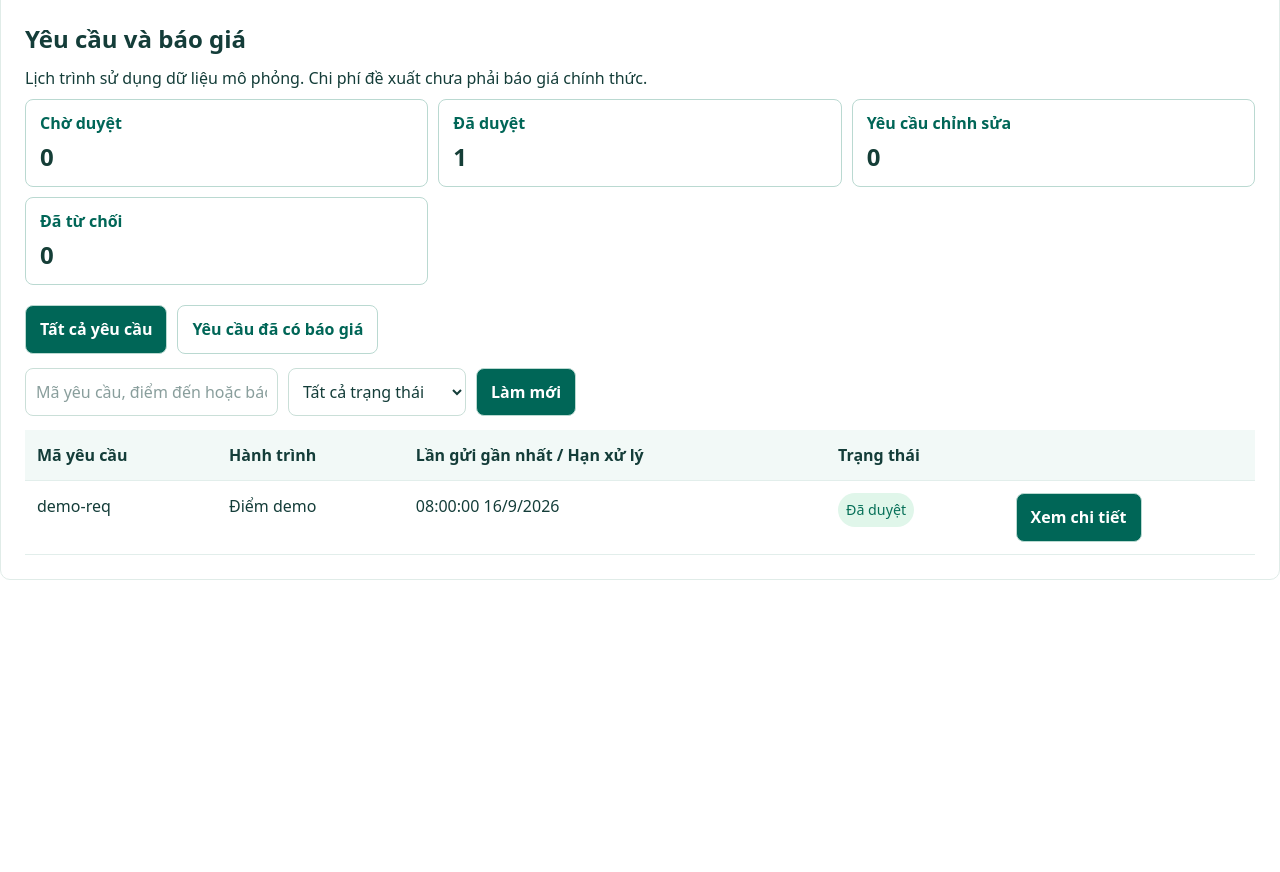
Test: creates a final quote only for an approved request and reloads persisted data
Click the button "Xem chi tiết" at {"x": 1078, "y": 518}, box top-left (1016, 493), bottom-right (1142, 542)
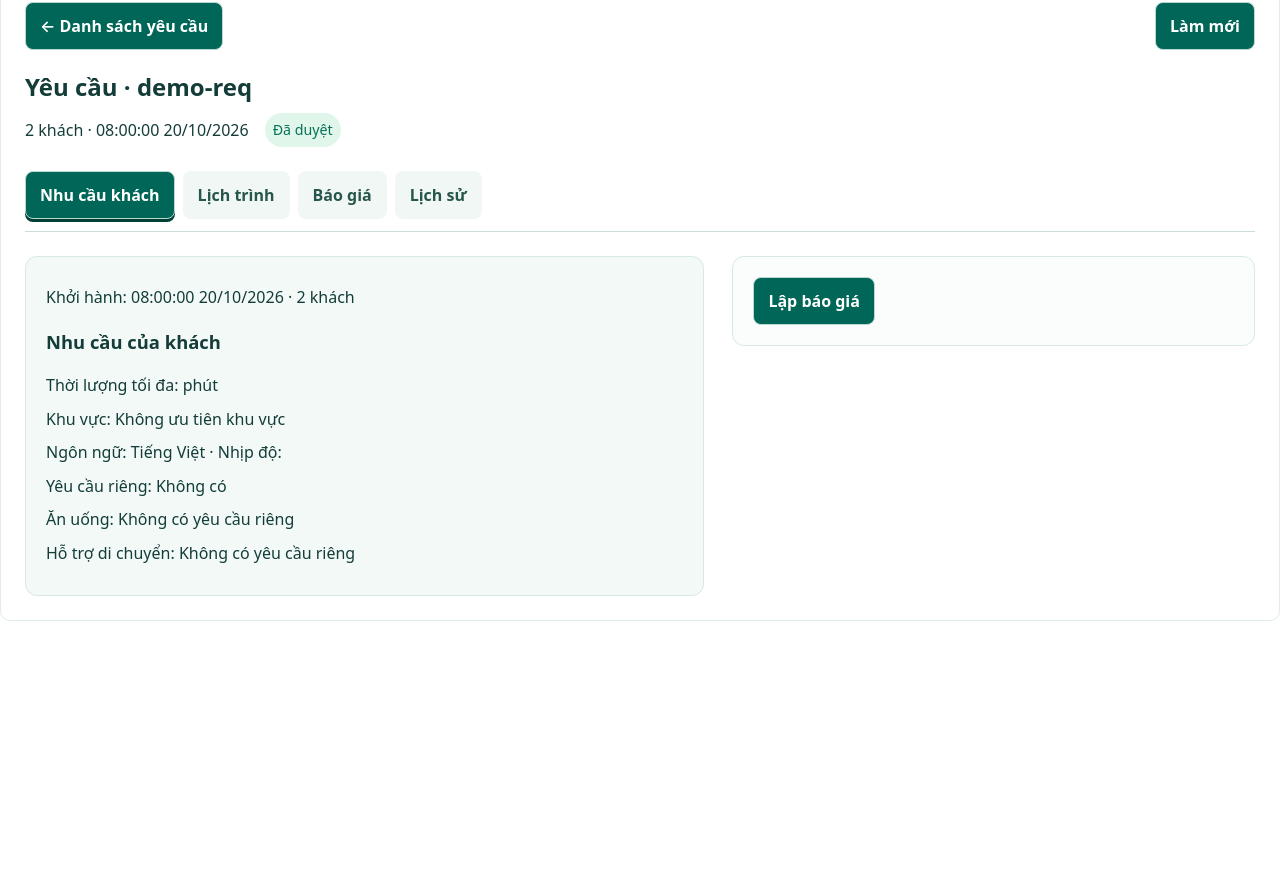
Click the button "Lập báo giá" at {"x": 814, "y": 301}, box top-left (753, 277), bottom-right (875, 326)
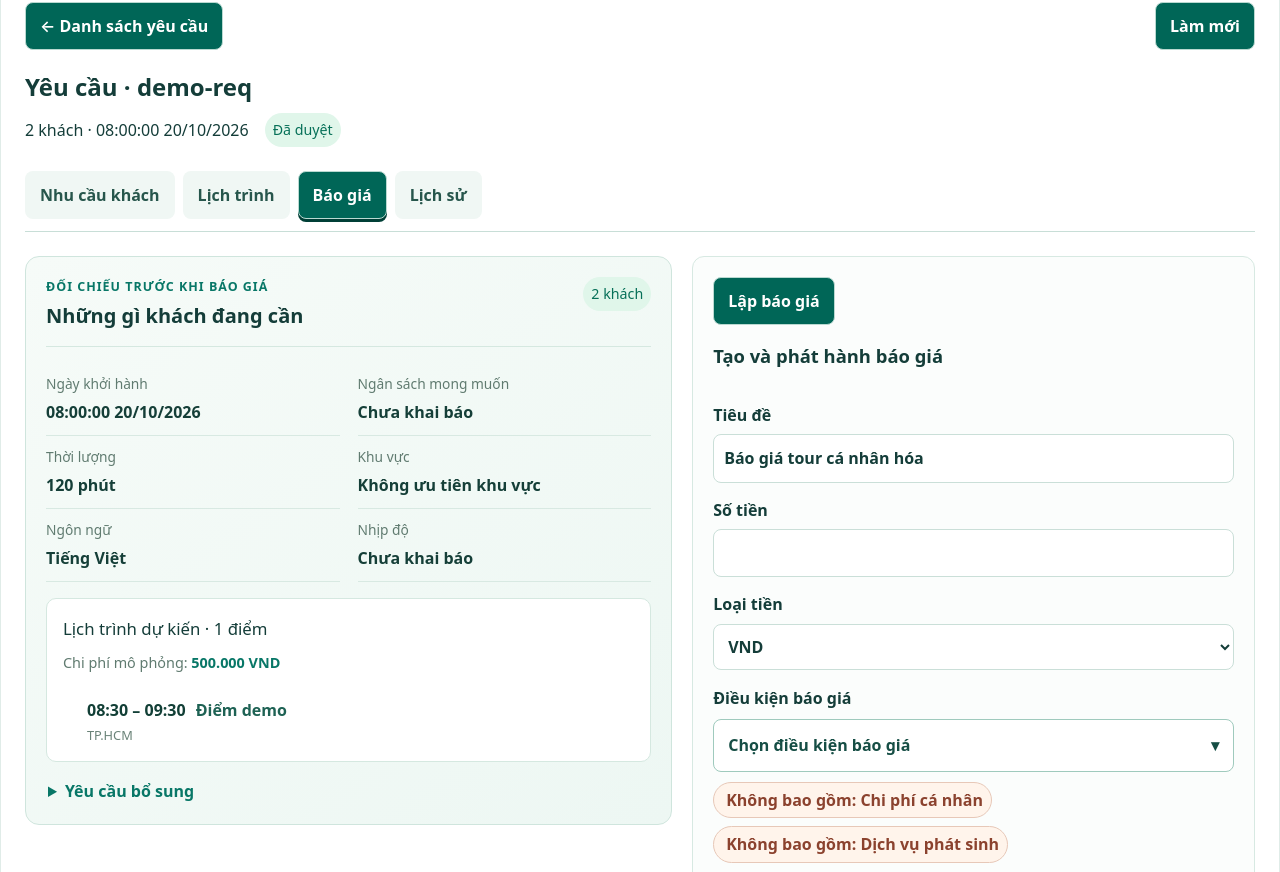
Type "750000" into the field named "Số tiền báo giá demo" at {"x": 974, "y": 553}, box top-left (713, 529), bottom-right (1234, 577)
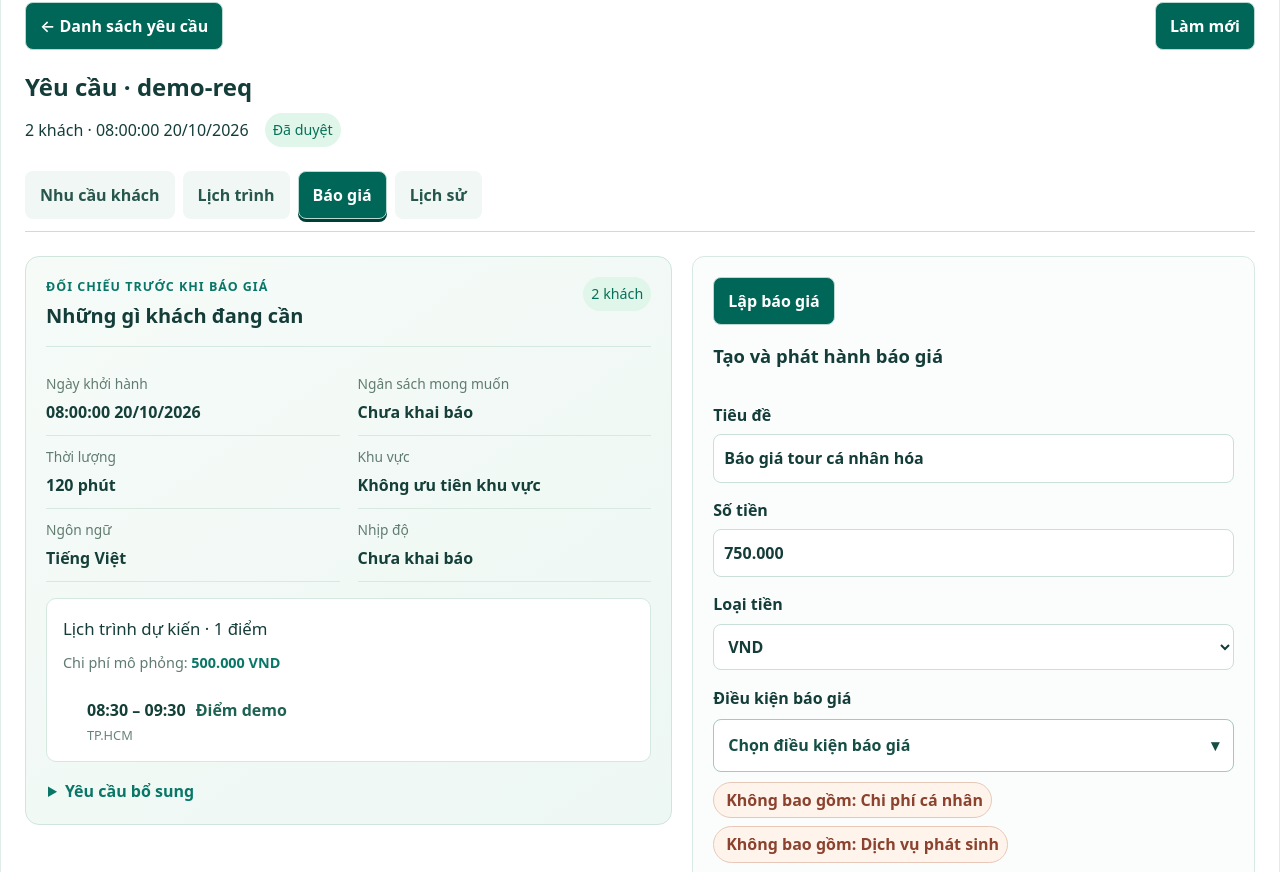
Click the button "Chọn điều kiện báo giá ▾" at {"x": 819, "y": 745}, box top-left (713, 719), bottom-right (1234, 772)
(page scrolled)
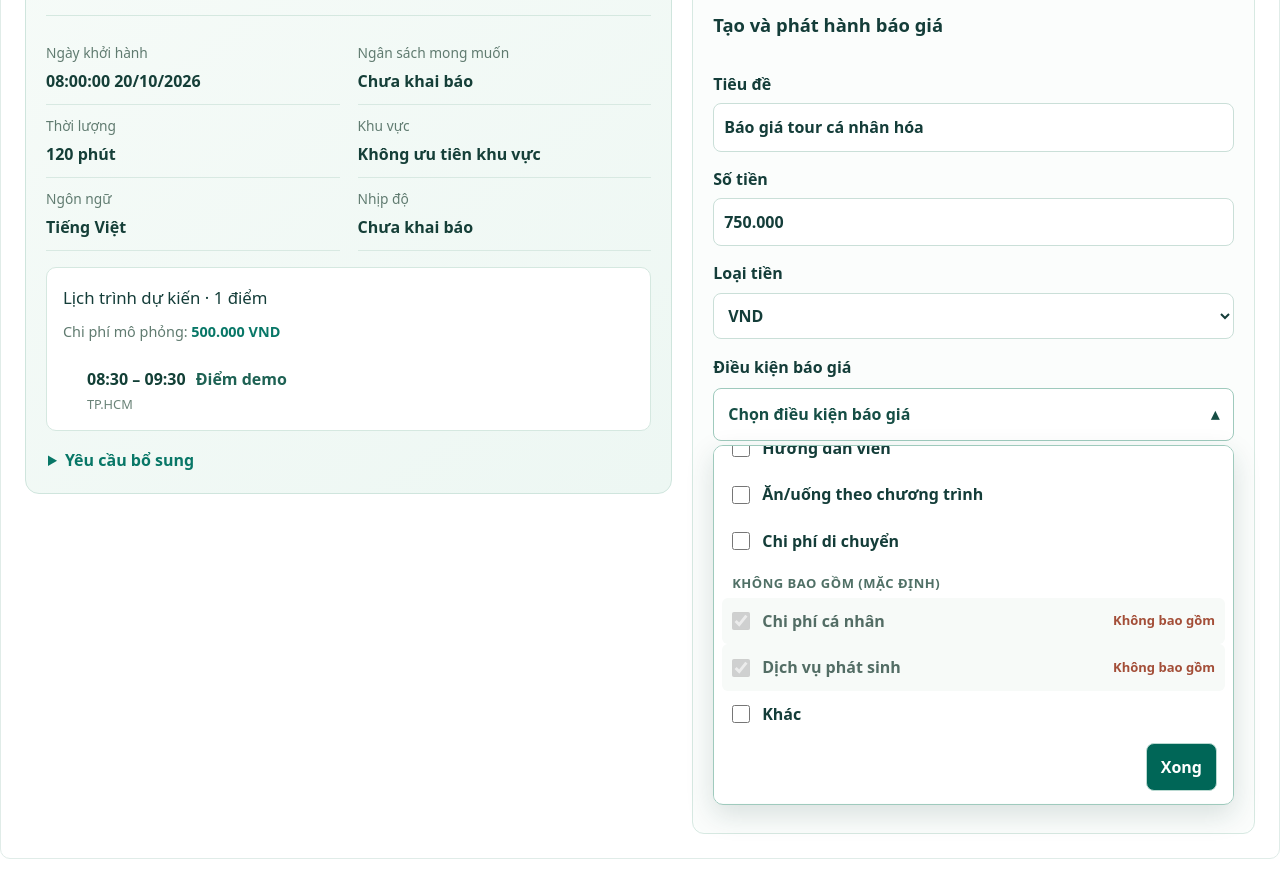
Click the button "Xong" at {"x": 1181, "y": 767}, box top-left (1146, 743), bottom-right (1217, 792)
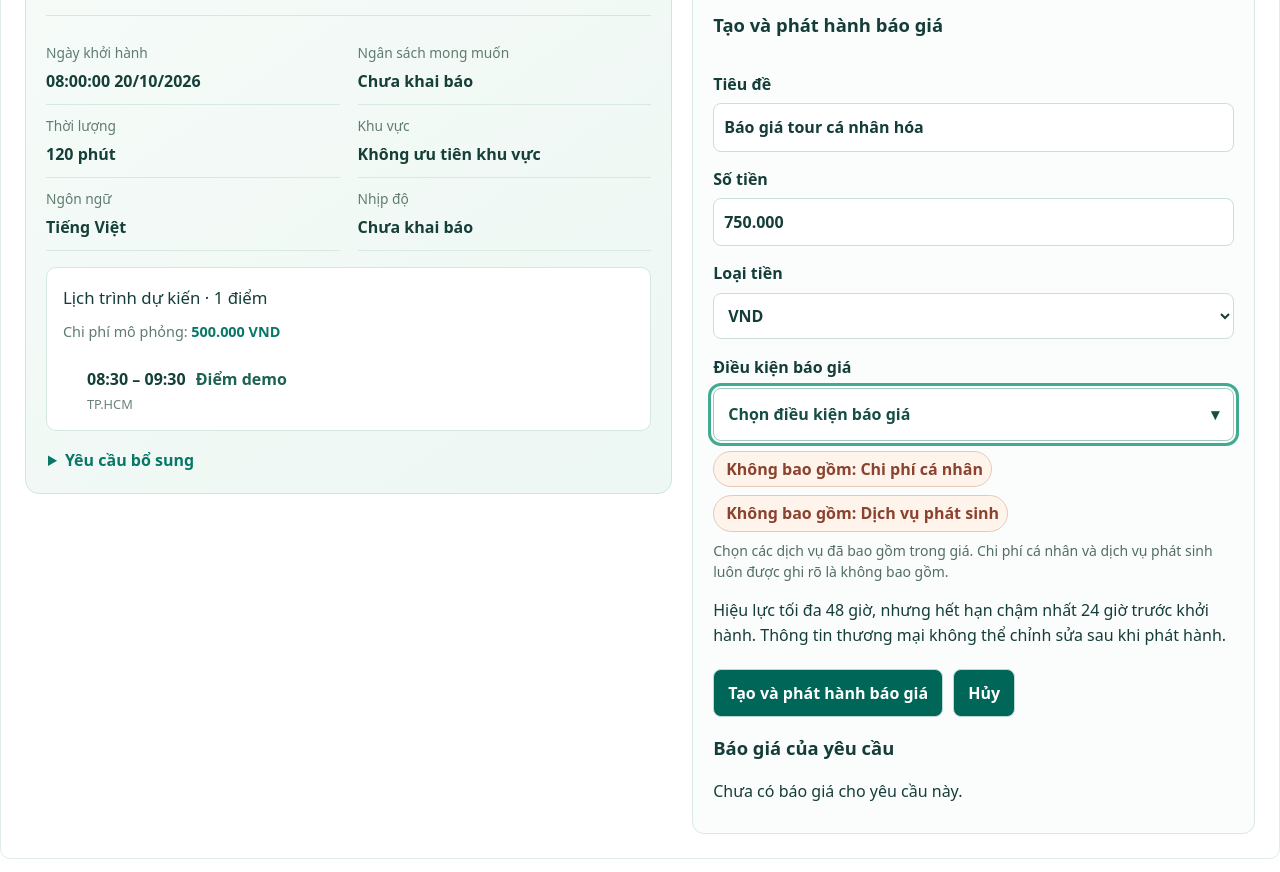
Click the button "Tạo và phát hành báo giá" at {"x": 828, "y": 693}, box top-left (713, 669), bottom-right (943, 717)
(page scrolled)
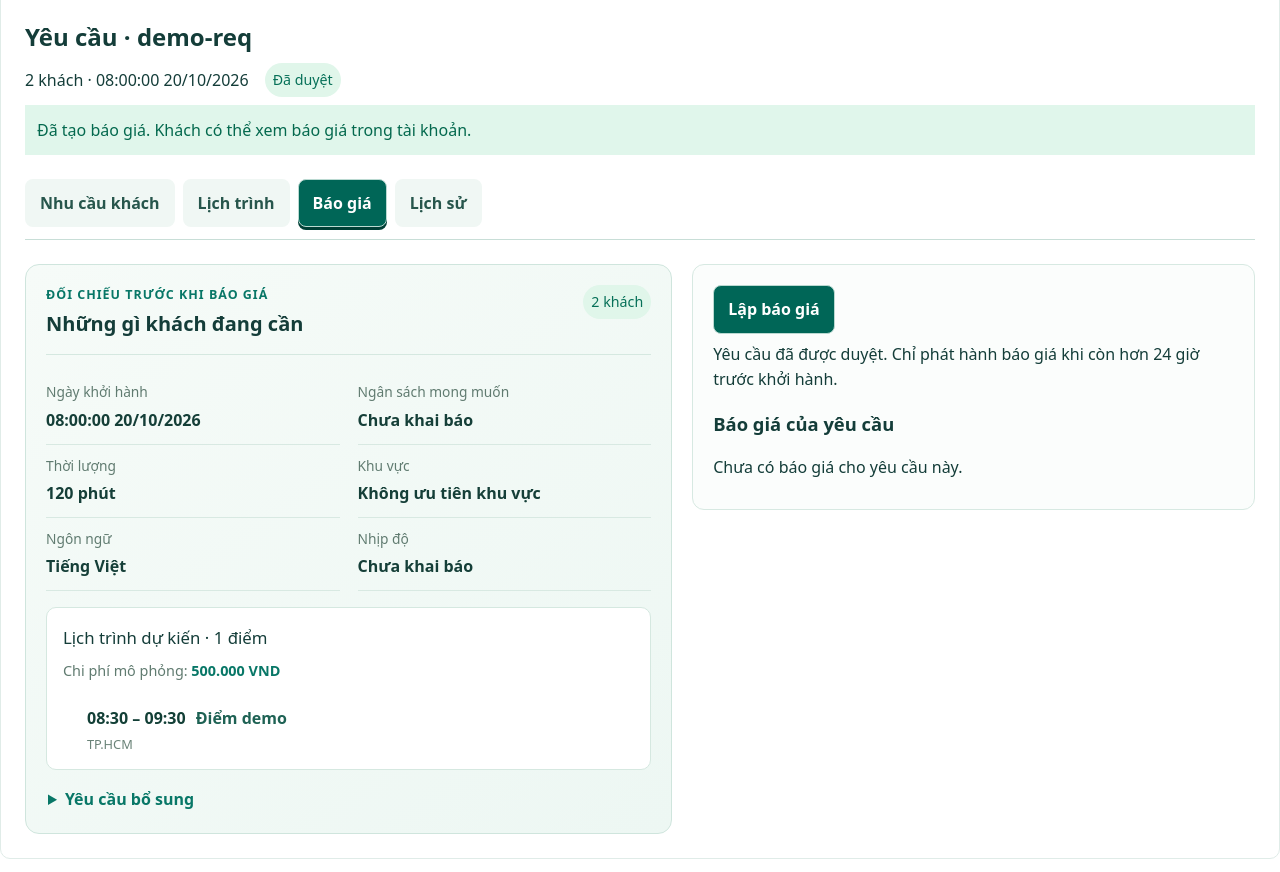
Result: the message shows "Khách có thể xem báo giá" at top-left (37, 119), bottom-right (471, 141)
